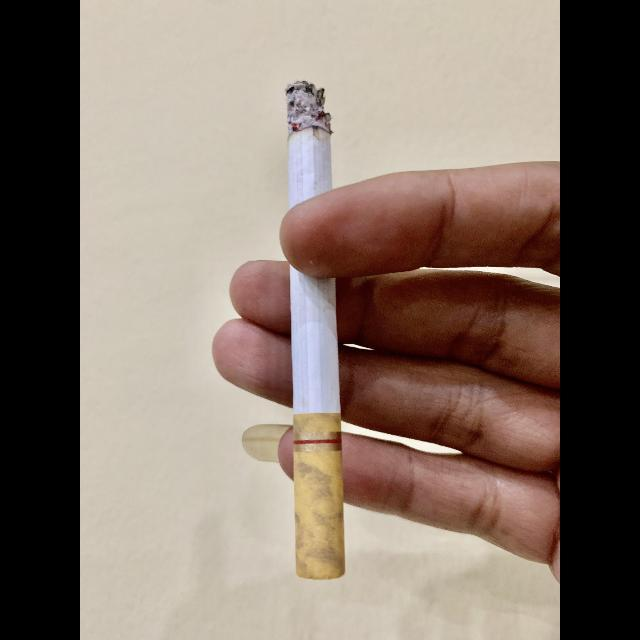rokok: (282, 78, 361, 584)
